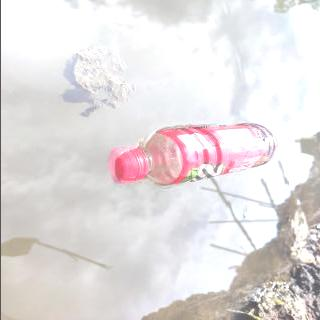bottle: (106, 120, 280, 189)
